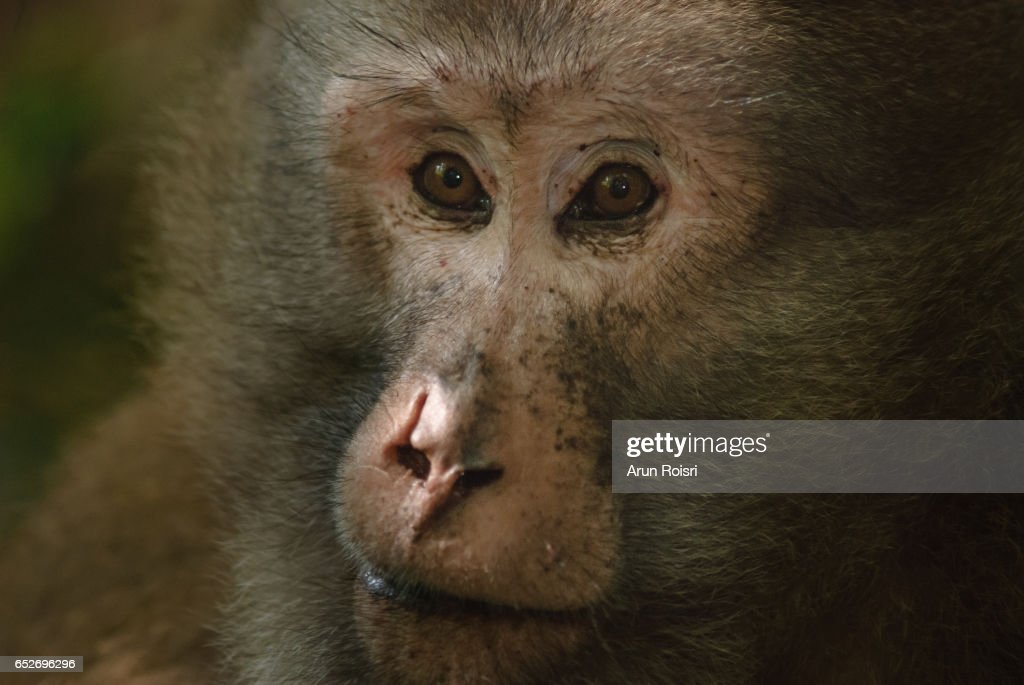monkey: (76, 1, 1024, 685)
